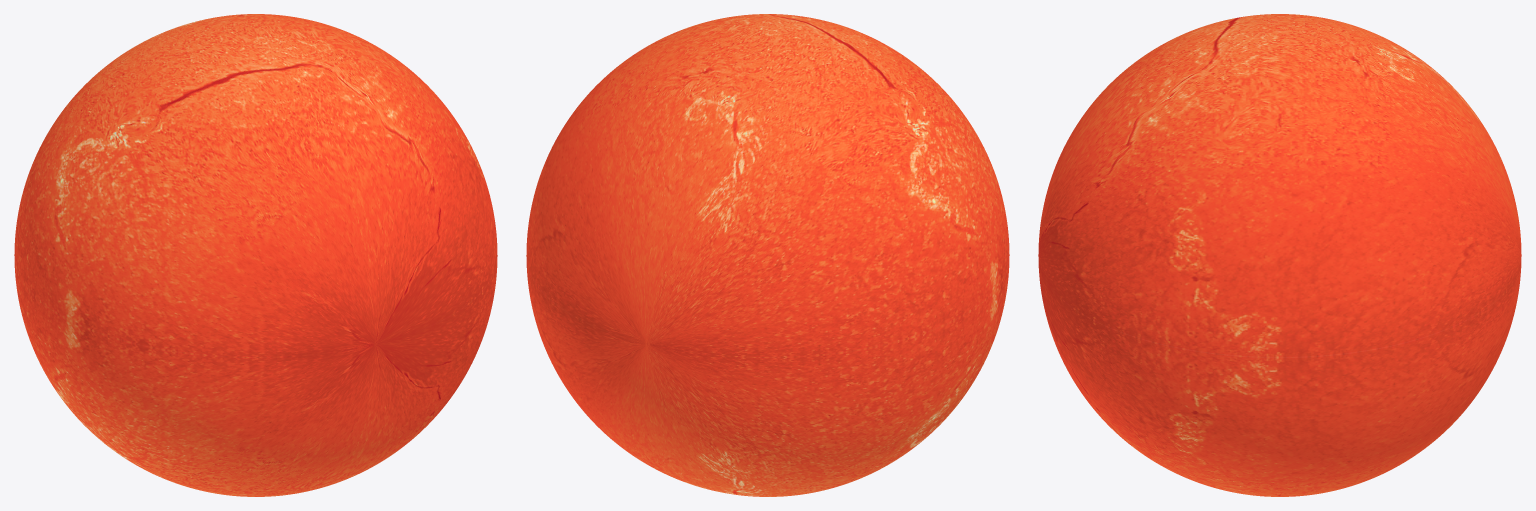
The model's file is betelgeuse.glb.
3 views of the same model, side by side, from view 1: azimuth 30°, elevation 25°; view 2: azimuth 150°, elevation 25°; view 3: azimuth 270°, elevation 25° (orthographic).
Parts seen in each view (by area): view 1: Object_5; view 2: Object_5; view 3: Object_5.
Boxes of the visible parts, x1,y1,x2,y2 form: Object_5: (14,14,497,496); Object_5: (526,14,1009,496); Object_5: (1038,14,1521,496).
Size of the model in its own units: 12 by 12 by 12.
Materials: 1 (1 with a texture image).
